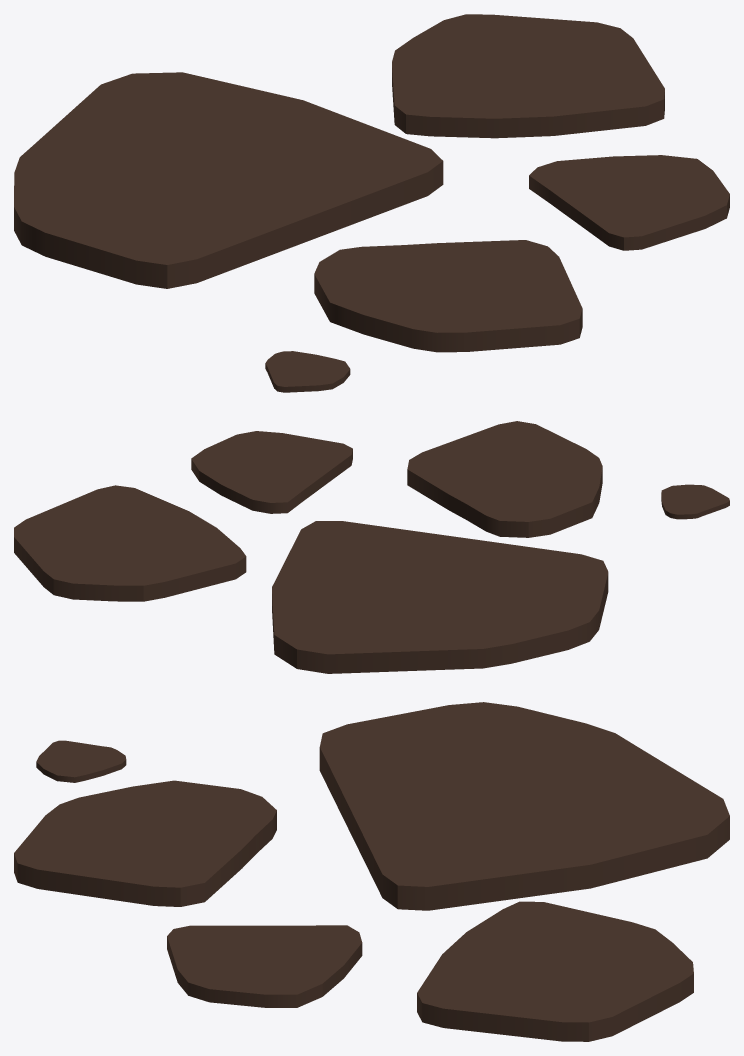
The model's file is Tile02.fbx.
3 views of the same model, one above another, from view 1: azimuth 30°, elevation 25°; view 2: azimuth 150°, elevation 25°; view 3: azimuth 270°, elevation 25° (orthographic). The views are drawn at different scales.
Visible parts, largest first — view 1: Tile02; view 2: Tile02; view 3: Tile02.
Boxes of the visible parts, x1,y1,x2,y2 form: Tile02: (14,14,729,392); Tile02: (14,421,729,673); Tile02: (14,702,729,1041).
Bounding box in the file's own units: 67.4 × 2.37 × 64.54.
